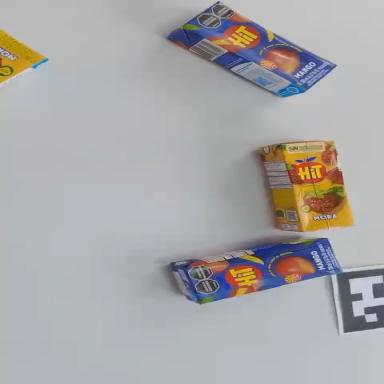HIT-MANGO: (166, 0, 336, 117), (171, 228, 341, 308)
HIT-MORA: (256, 129, 355, 244), (0, 30, 48, 99)
cara_F: (183, 0, 338, 100), (186, 236, 344, 306), (279, 130, 356, 239), (0, 29, 46, 84)
